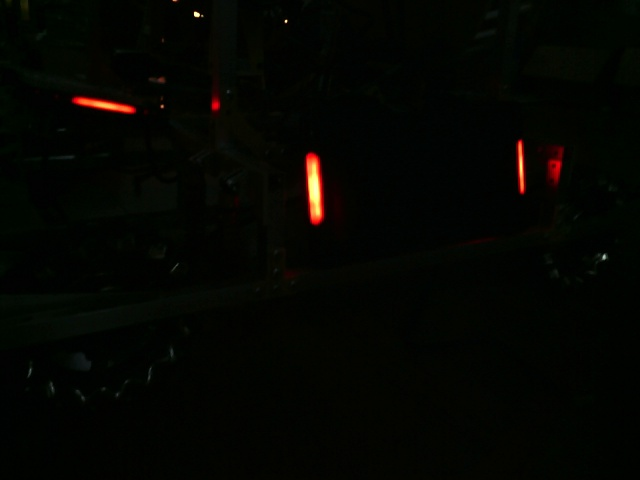lamp: (300, 151, 327, 225)
